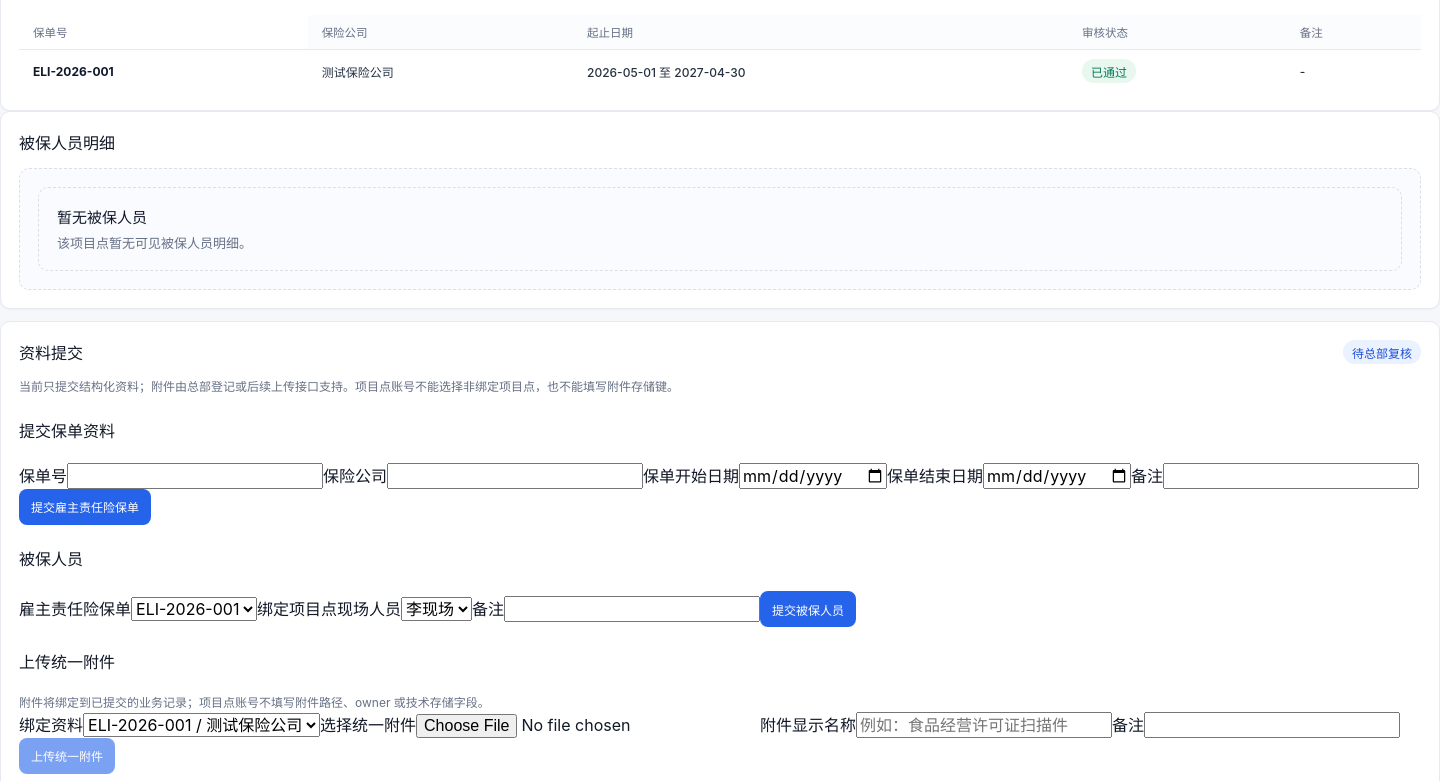
Test: ExternalProjectSitePortal detail refresh › refreshes compliance details after covered-person submission succeeds
(page scrolled)
Step 1. Click the button "提交被保人员" → [808, 609], box [760,591,856,627]
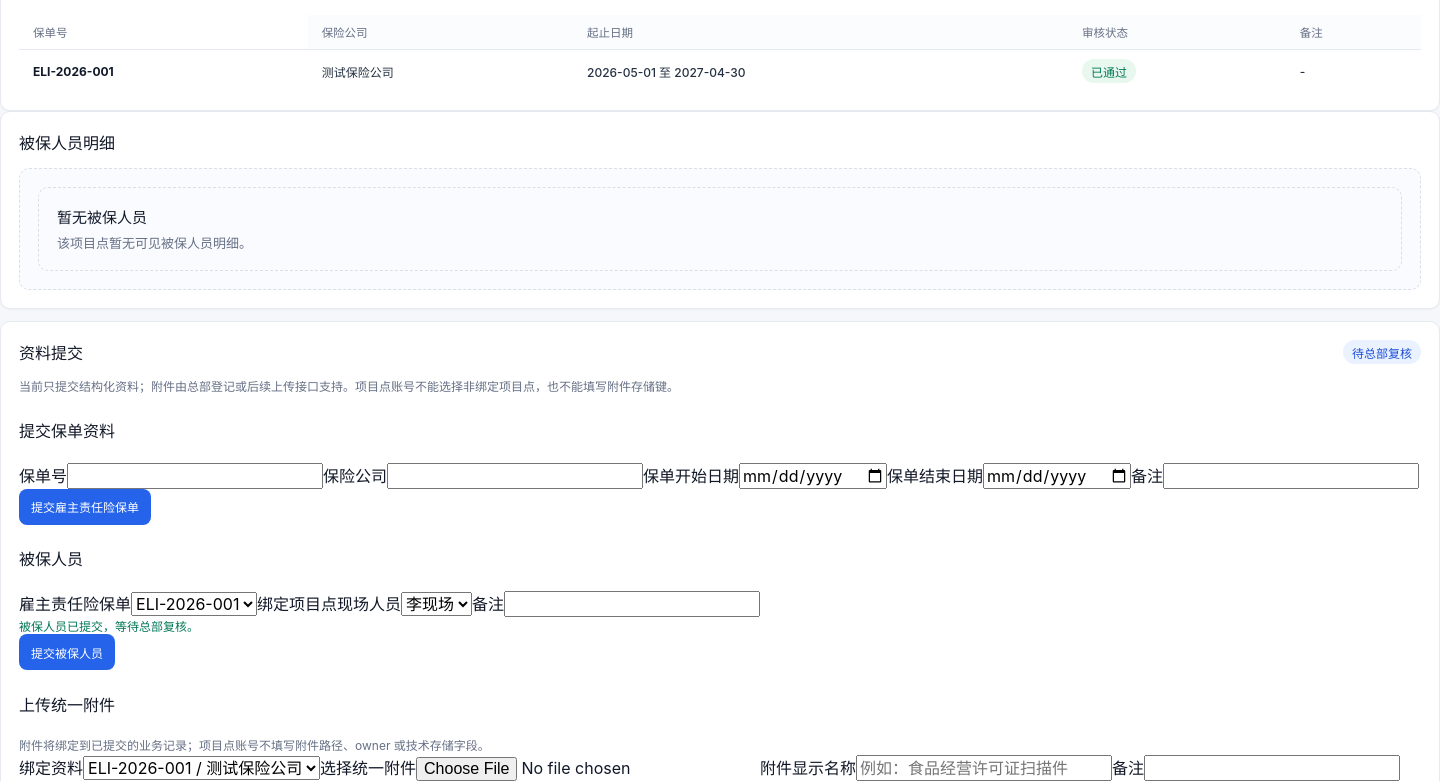
Check: the text "被保人员已提交，等待总部复核。" is shown, box [19,619,199,634]
